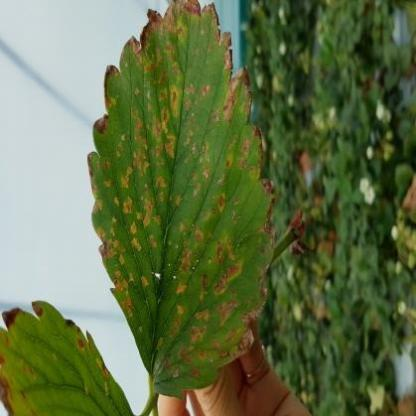Strawberry_Angular_LeafSpot: (86, 0, 276, 401), (0, 300, 136, 415)
